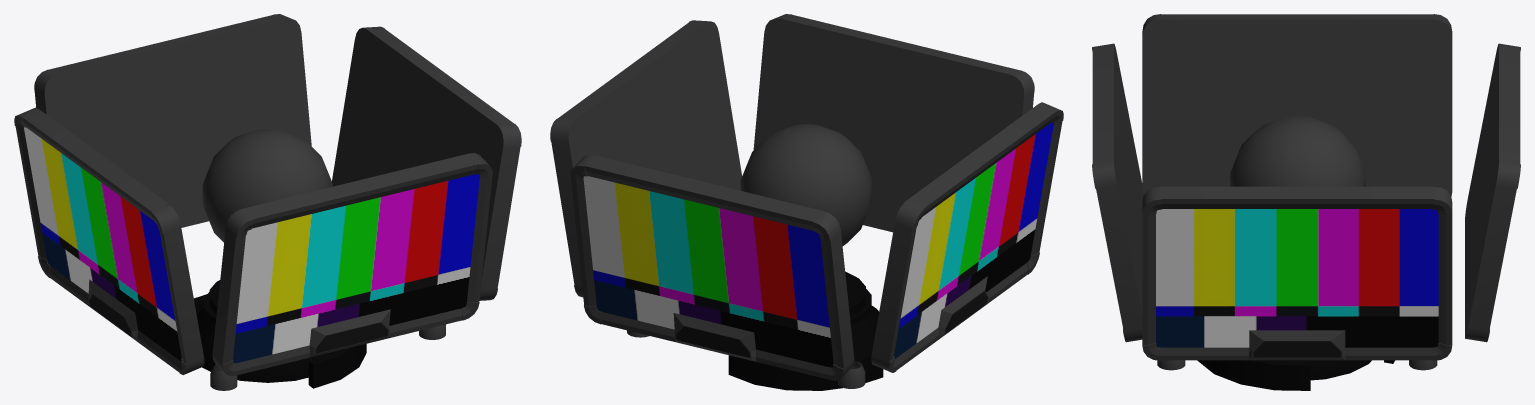
Rendered from Screens.FBX.
The picture shows the model from 3 angles, left to right: view 1: azimuth 30°, elevation 25°; view 2: azimuth 150°, elevation 25°; view 3: azimuth 270°, elevation 25°; orthographic projection. The views are drawn at different scales.
Visible parts, largest first — view 1: Screens, Screens Spinner; view 2: Screens, Screens Spinner; view 3: Screens, Screens Spinner.
Part boxes in pixels (x1,y1,x2,y2): Screens: (14,14,521,390); Screens Spinner: (194,294,366,388); Screens: (550,14,1063,388); Screens Spinner: (728,351,883,390); Screens: (1092,14,1520,380); Screens Spinner: (1197,360,1394,390).
Bounding box in the file's own units: 332 × 204 × 324.
Materials: 2 (2 with a texture image).
